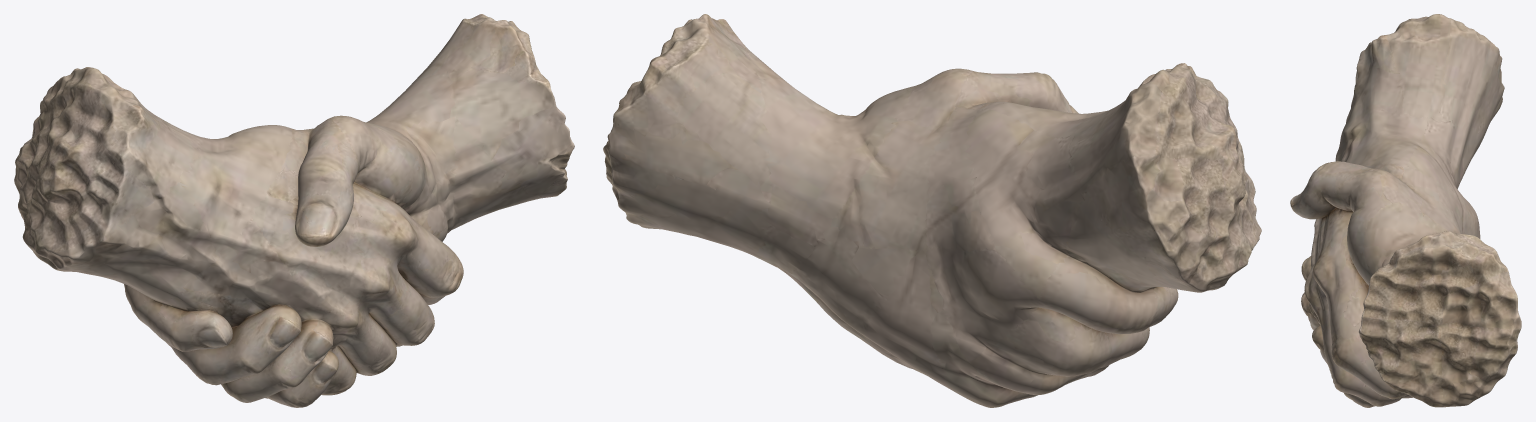
Rendered from collaborator-hands.glb.
3 views of the same model, side by side, from view 1: azimuth 30°, elevation 25°; view 2: azimuth 150°, elevation 25°; view 3: azimuth 270°, elevation 25° (orthographic). The views are drawn at different scales.
Bounding box in the file's own units: 1.9 × 1.2 × 0.835.
Materials: 1 (1 with a texture image).
